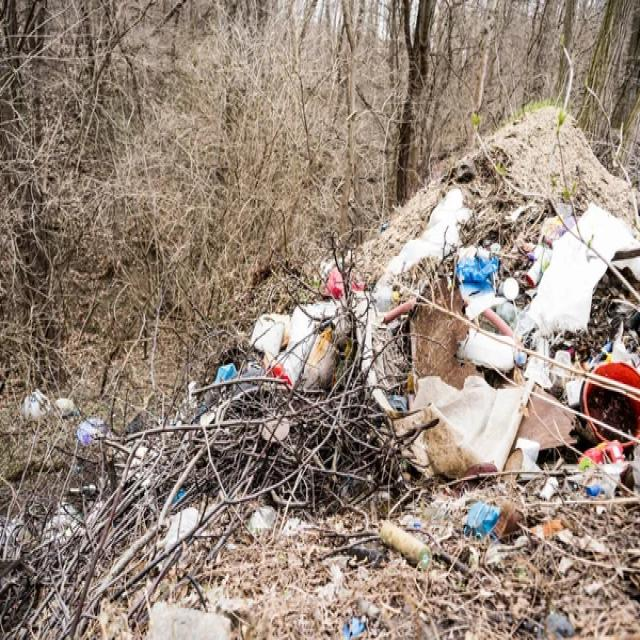garbage: (143, 99, 617, 595)
